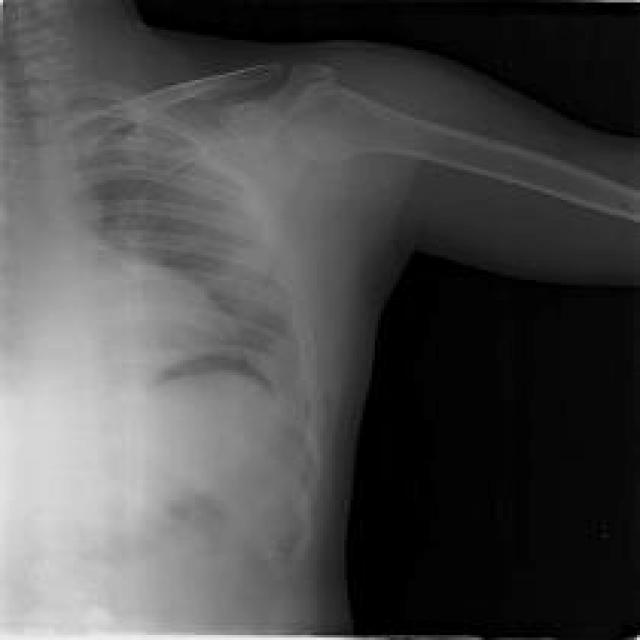normal: (50, 62, 637, 369), (5, 28, 70, 151)
